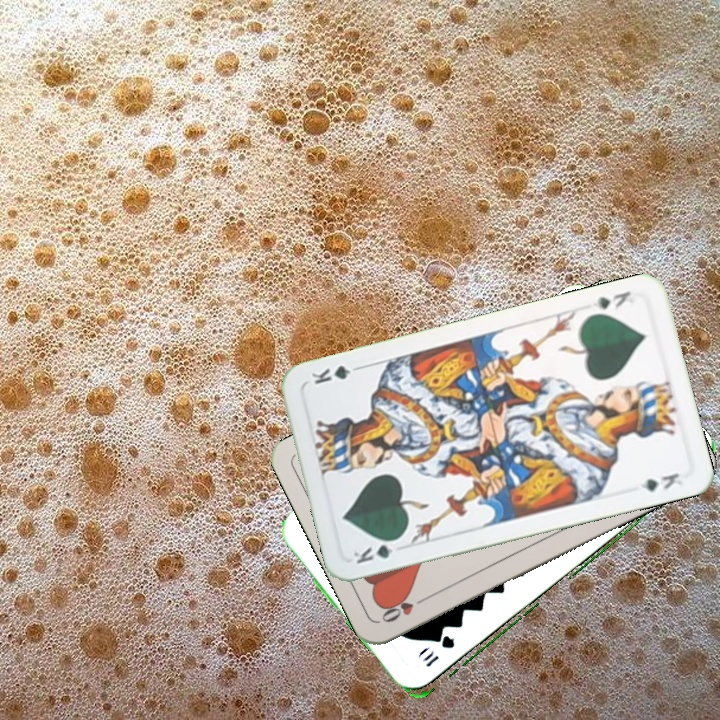G10: (419, 633, 458, 670)
GK: (349, 534, 404, 567), (588, 287, 634, 312)
HO: (377, 591, 432, 626)
